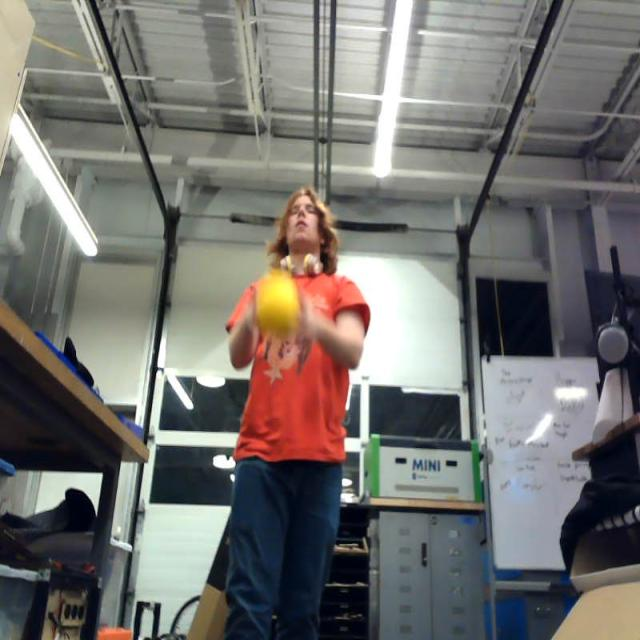Fuel: (259, 281, 301, 334)
